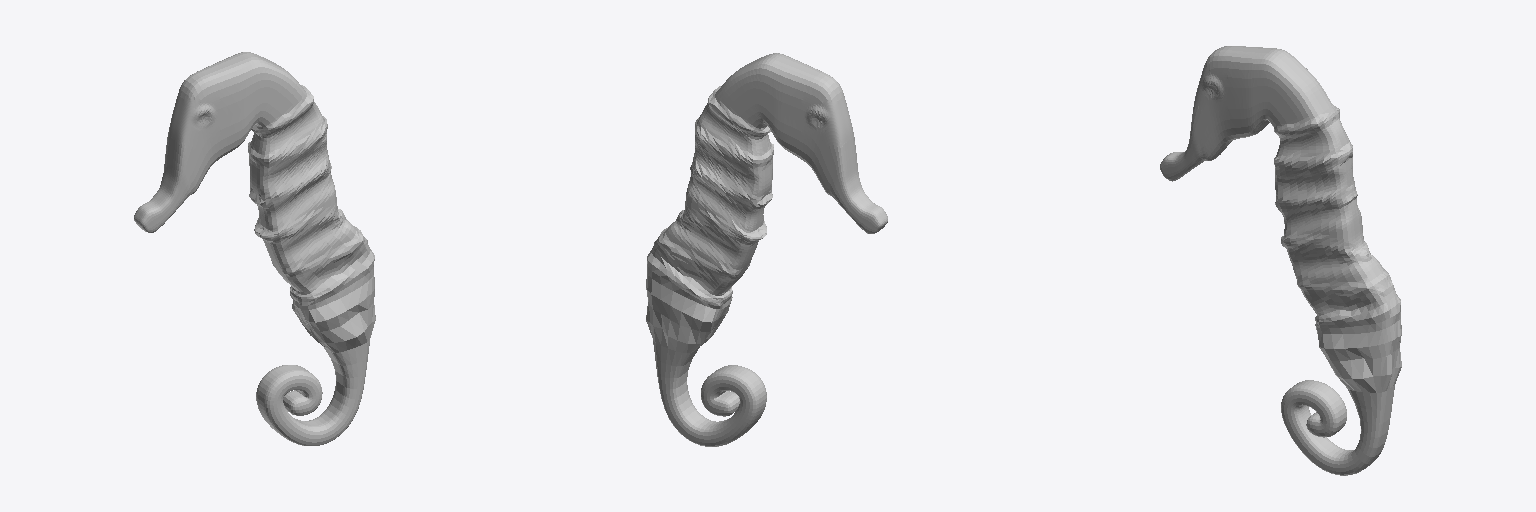
File: SeahorseUV.obj
The picture shows the model from 3 angles: view 1: azimuth 30°, elevation 25°; view 2: azimuth 150°, elevation 25°; view 3: azimuth 330°, elevation 25°; orthographic projection.
Parts seen in each view (by area): view 1: combinedseahorse; view 2: combinedseahorse; view 3: combinedseahorse.
Part boxes in pixels (x1,y1,x2,y2): combinedseahorse: (134, 52, 375, 445); combinedseahorse: (646, 53, 887, 446); combinedseahorse: (1160, 46, 1401, 475).
Size of the model in its own units: 7.66 by 12.48 by 1.58.